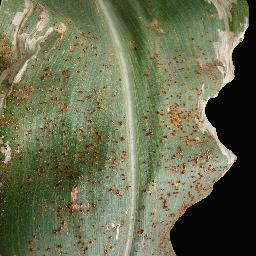Corn_Common_Rust: (0, 0, 127, 256), (126, 0, 251, 255)
